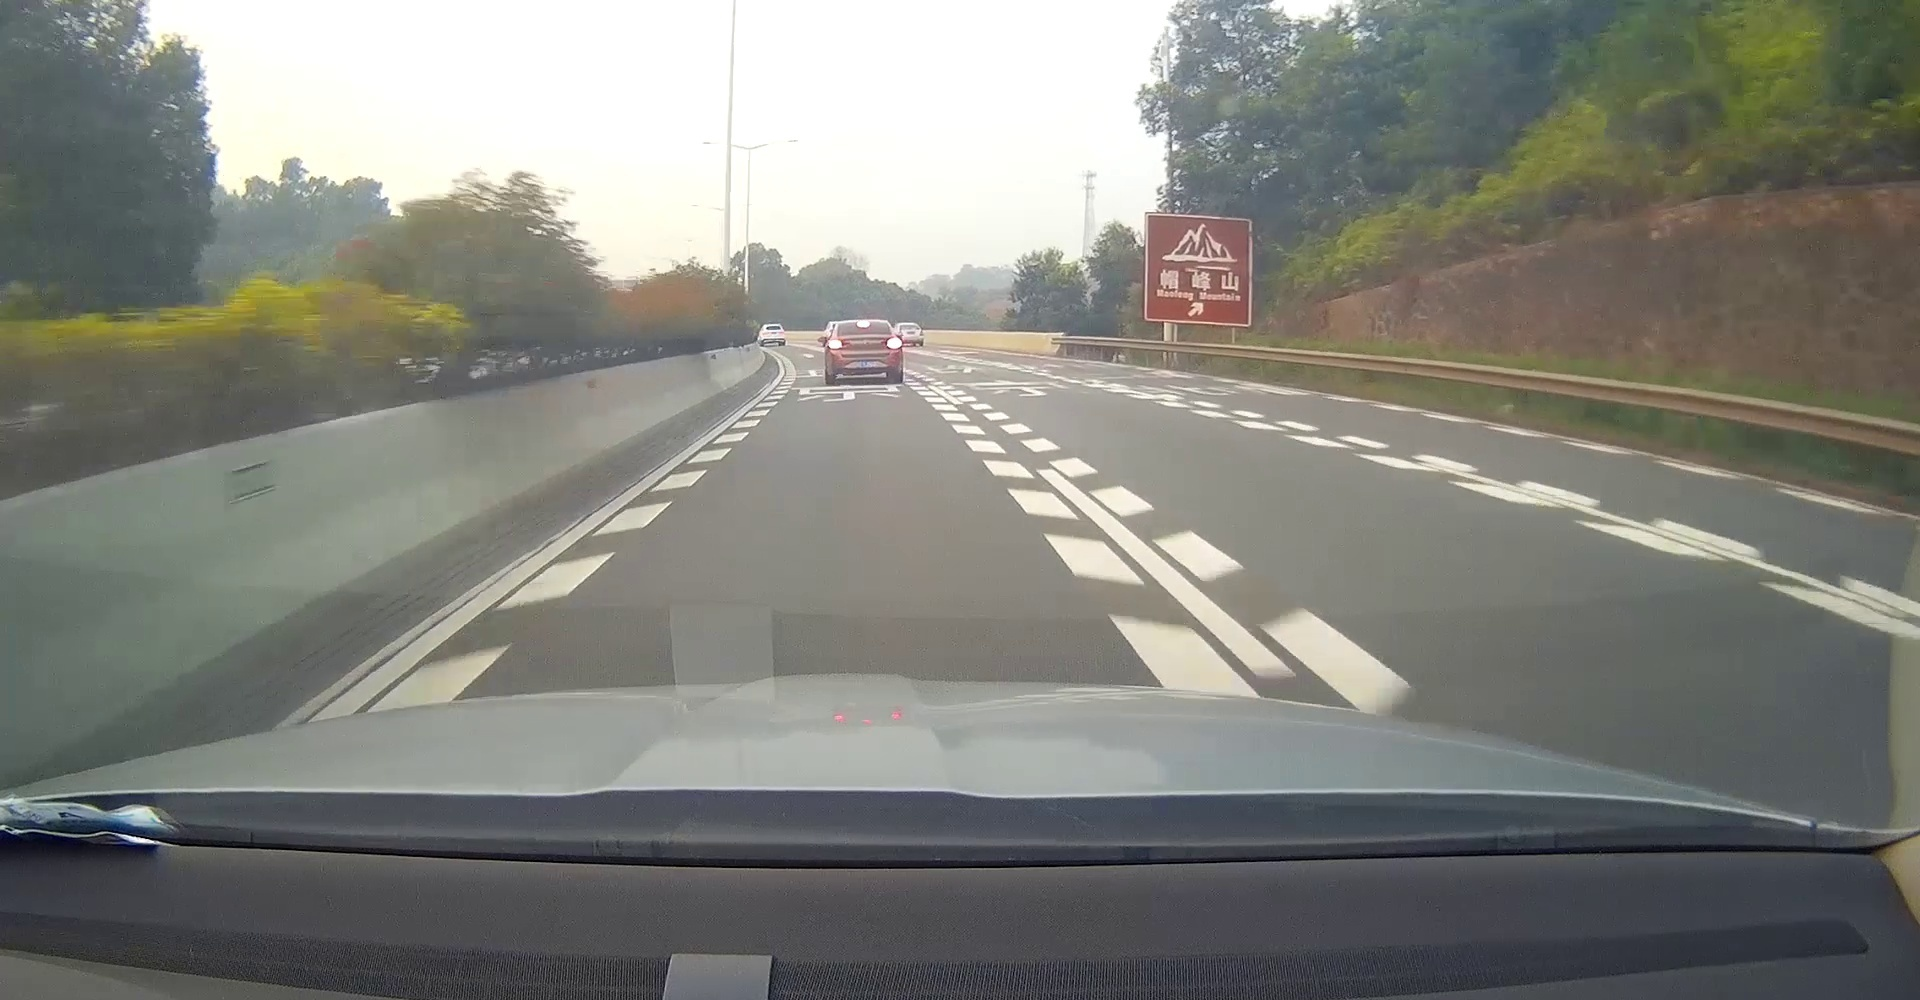L_light: (828, 339, 850, 348)
R_light: (881, 338, 902, 346)
T_light: (857, 322, 870, 326)
day-brake: (827, 319, 903, 385)
